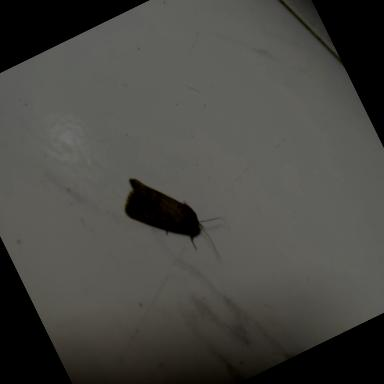pbw: (111, 146, 242, 286)
